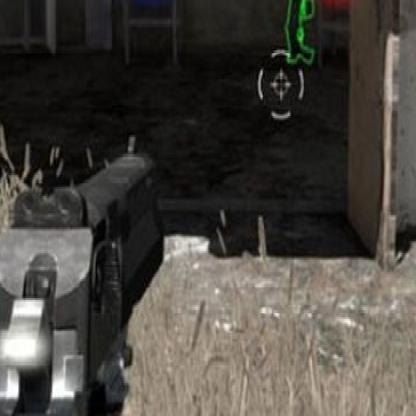gun: (0, 128, 174, 414)
